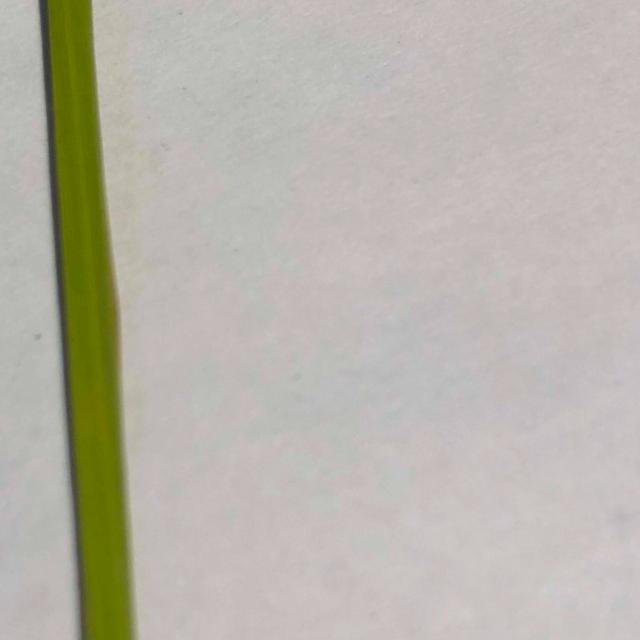Rice_Healthy: (45, 0, 135, 640)
